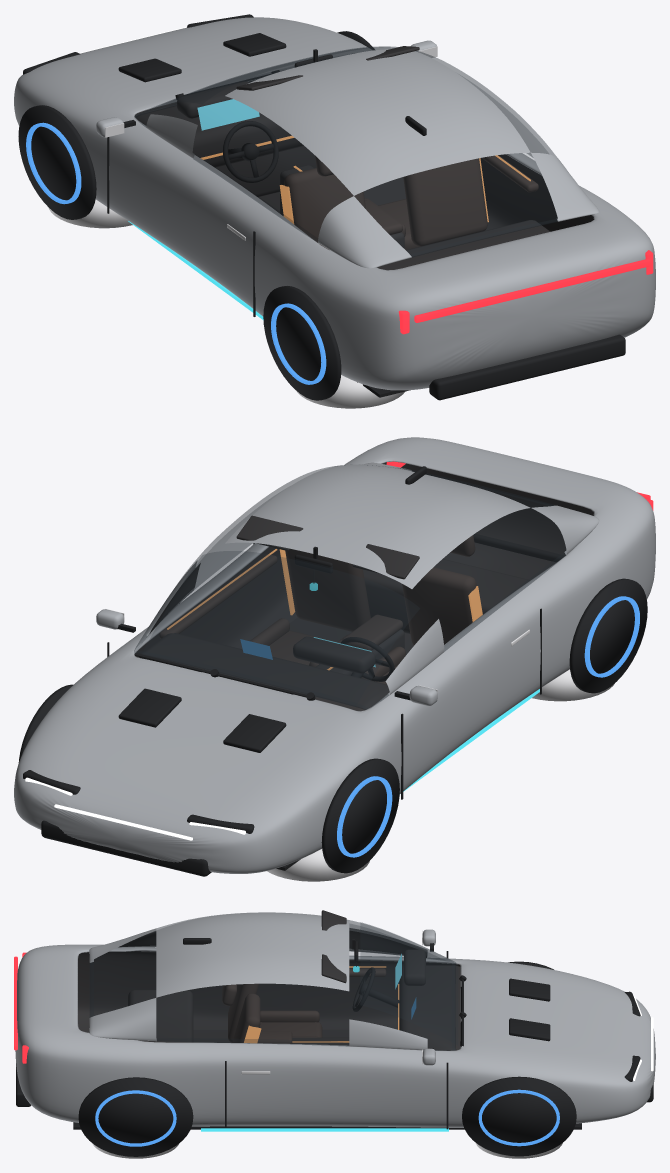
File: car.glb
The picture shows the model from 3 angles, top to bottom: view 1: azimuth 30°, elevation 25°; view 2: azimuth 150°, elevation 25°; view 3: azimuth 270°, elevation 25°; orthographic projection. The views are drawn at different scales.
Visible parts, largest first — view 1: X_Body, X_Glasshouse, SeatBackR, X_ArchLF, X_ArchLR, X_Diffuser, Dash, SeatBackL, RearShelf, X_Tail, DashLower, Yoke (+14 smaller); view 2: X_Body, X_Glasshouse, X_Drops, Dash, X_ArchLR, X_ArchLF, SeatBackR, SeatBackL, RearShelf, Binnacle, X_Intake, DoorArmR (+14 smaller); view 3: X_Body, X_Glasshouse, X_Drops, X_ArchRR, X_ArchRF, Dash, RearShelf, X_SillR, Floor, X_ArchGlowRR, X_ArchGlowRF, SeatBackR (+11 smaller).
Part boxes in pixels (box(x1,y1,x2,y2)): X_Body: box(14, 17, 655, 390); X_Glasshouse: box(134, 47, 599, 268); SeatBackR: box(403, 158, 487, 246); X_ArchLF: box(18, 105, 96, 219); X_ArchLR: box(263, 286, 341, 400); X_Diffuser: box(429, 334, 625, 400); Dash: box(135, 105, 303, 167); SeatBackL: box(284, 168, 365, 249); RearShelf: box(377, 220, 550, 270); X_Tail: box(414, 258, 650, 322); DashLower: box(215, 146, 316, 196); Yoke: box(223, 121, 278, 182); X_Body: box(14, 437, 655, 873); X_Glasshouse: box(134, 462, 599, 709); X_Drops: box(142, 551, 419, 706); Dash: box(137, 633, 389, 711); X_ArchLR: box(569, 578, 647, 693); X_ArchLF: box(321, 758, 399, 873); SeatBackR: box(285, 549, 370, 631); SeatBackL: box(402, 567, 476, 645); RearShelf: box(363, 559, 530, 633); Binnacle: box(293, 636, 375, 673); X_Intake: box(41, 820, 211, 876); DoorArmR: box(159, 554, 277, 638); X_Body: box(15, 944, 655, 1127); X_Glasshouse: box(89, 912, 455, 1050); X_Drops: box(360, 922, 457, 1044); X_ArchRR: box(78, 1077, 193, 1156); X_ArchRF: box(462, 1076, 576, 1156); Dash: box(399, 965, 460, 1050); RearShelf: box(128, 990, 193, 1042); X_SillR: box(201, 1128, 448, 1131); Floor: box(192, 1029, 397, 1126); X_ArchGlowRR: box(95, 1090, 176, 1146); X_ArchGlowRF: box(478, 1089, 559, 1146); SeatBackR: box(232, 993, 260, 1042).
Size of the model in its own units: 2.32 by 1.38 by 4.92.
